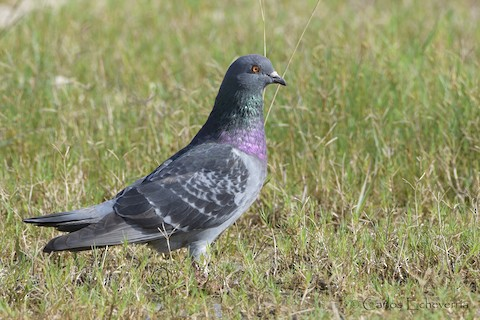pigeon: (22, 49, 290, 284)
